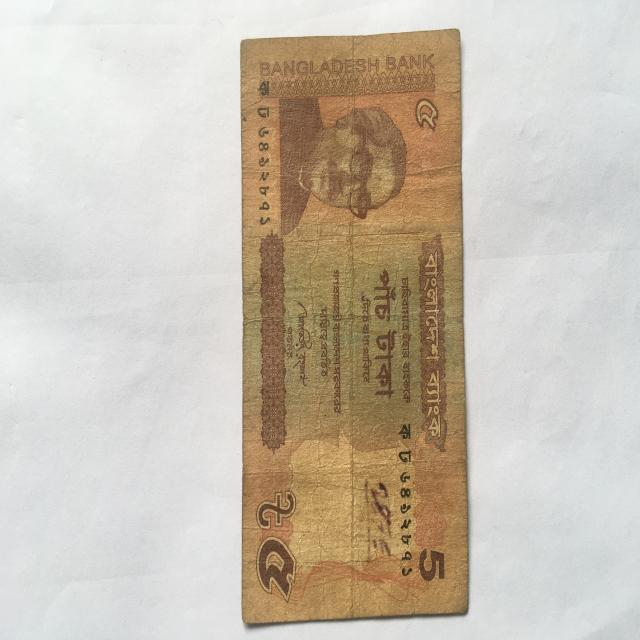Taka: (230, 29, 482, 623)
